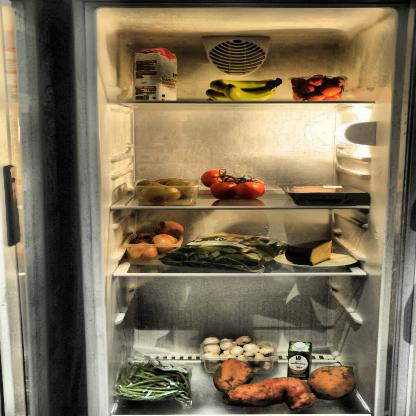banana: (204, 80, 288, 102)
cheese: (285, 238, 337, 265)
green_beans: (114, 360, 194, 408)
heavy_cream: (286, 341, 312, 382)
mushrooms: (196, 331, 272, 369)
onion: (128, 219, 185, 266)
potato: (136, 176, 197, 205)
spinach: (157, 230, 288, 272)
strawberries: (288, 73, 344, 99)
sweet_potato: (214, 359, 358, 413)
tomato: (200, 168, 268, 202)
